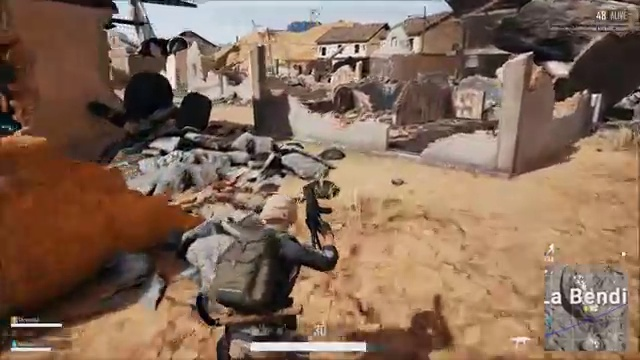Player: (187, 178, 358, 315)
